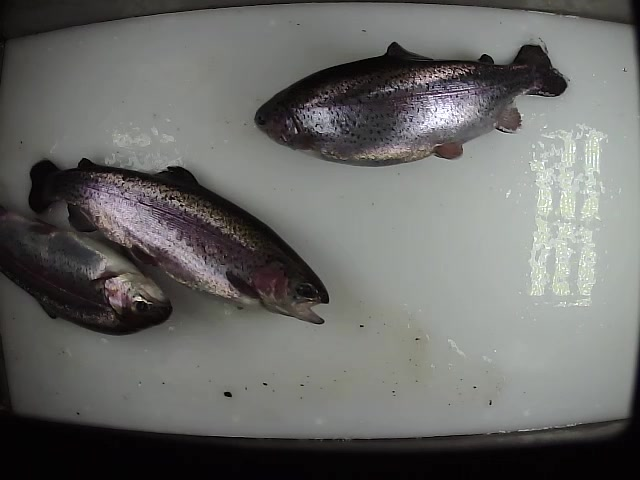fish: (28, 156, 331, 325), (253, 41, 569, 169), (1, 205, 175, 338)
